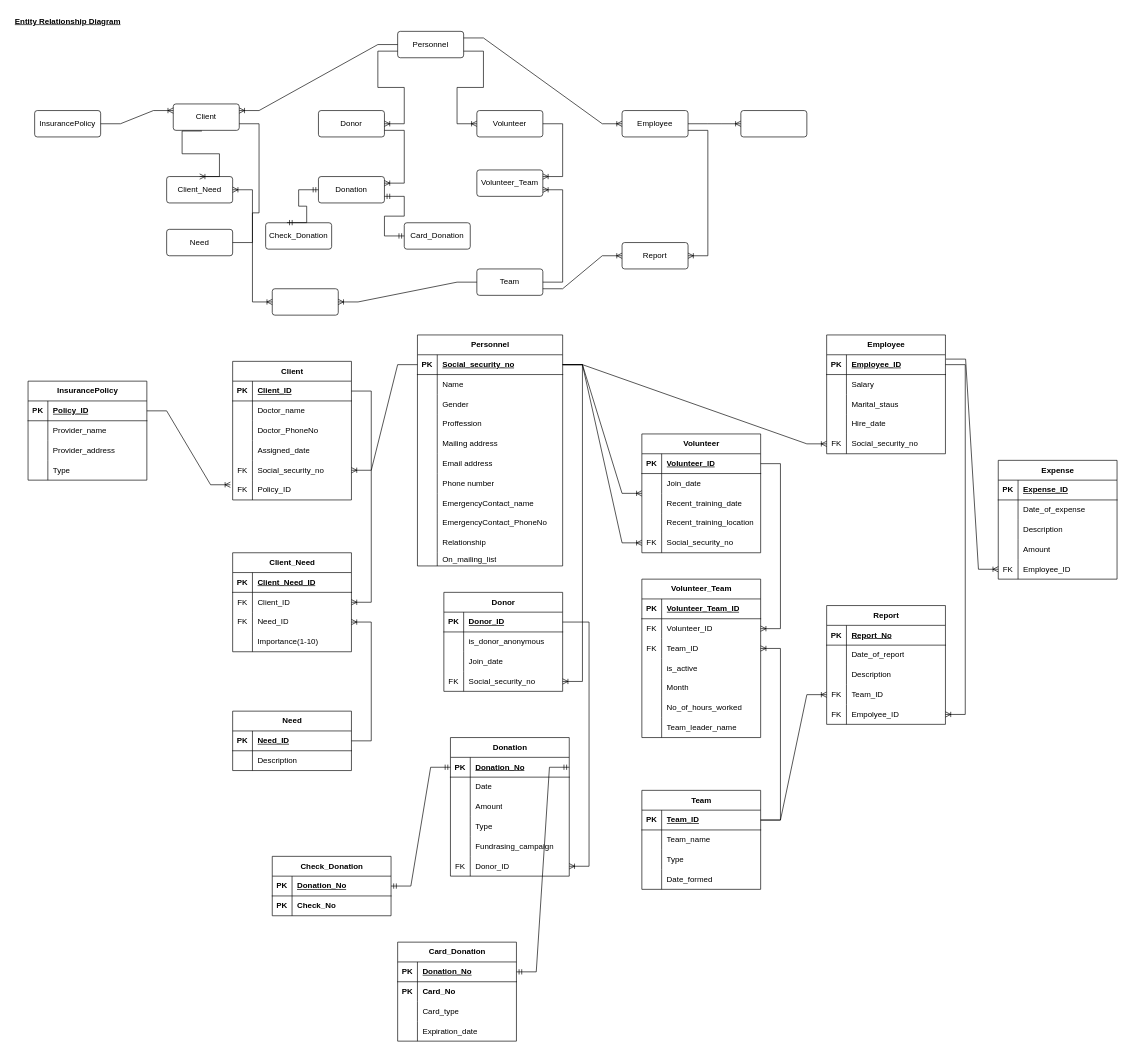
Some shapes in this 1129 by 1053 pixel diagram are drawn without their labels. The shapes that lost their labels are listed below. From the top down, each one's box as (x1, y1, x2, y2) in pixels, then its label:
(740, 110, 807, 137): Expence
(272, 288, 338, 315): Client_Team
